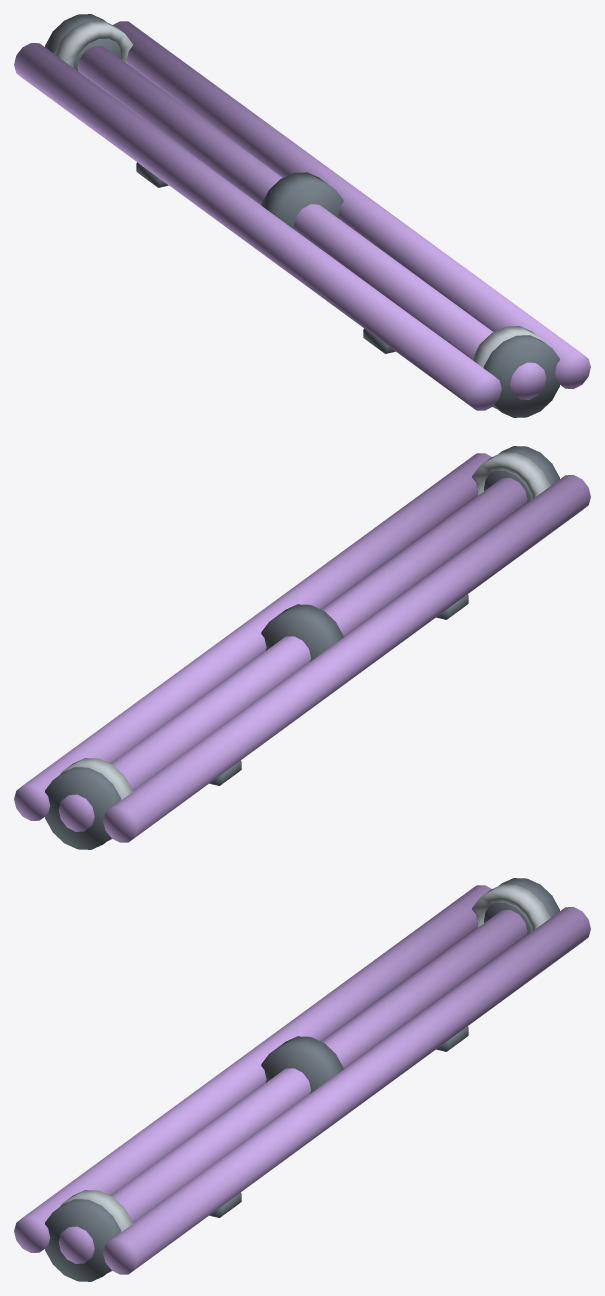
Rendered from overhead_bus_standard.glb.
The picture shows the model from 3 angles, top to bottom: view 1: azimuth 30°, elevation 25°; view 2: azimuth 150°, elevation 25°; view 3: azimuth 330°, elevation 25°; orthographic projection.
Visible parts, largest first — view 1: Conduit_purple, Coupler_dark, Flange_steel, SupportBracket_dark; view 2: Conduit_purple, Coupler_dark, Flange_steel, SupportBracket_dark; view 3: Conduit_purple, Coupler_dark, Flange_steel, SupportBracket_dark.
Boxes of the visible parts, left/top/right/bottom form: Conduit_purple: left=14, top=21, right=590, bottom=410; Coupler_dark: left=45, top=14, right=559, bottom=417; Flange_steel: left=54, top=20, right=544, bottom=408; SupportBracket_dark: left=136, top=162, right=395, bottom=353; Conduit_purple: left=14, top=453, right=590, bottom=842; Coupler_dark: left=45, top=446, right=559, bottom=849; Flange_steel: left=60, top=452, right=550, bottom=840; SupportBracket_dark: left=209, top=594, right=468, bottom=785; Conduit_purple: left=14, top=885, right=590, bottom=1274; Coupler_dark: left=45, top=878, right=559, bottom=1281; Flange_steel: left=60, top=884, right=550, bottom=1272; SupportBracket_dark: left=209, top=1026, right=468, bottom=1217.
Bounding box in the file's own units: 0.47 × 0.2805 × 3.
